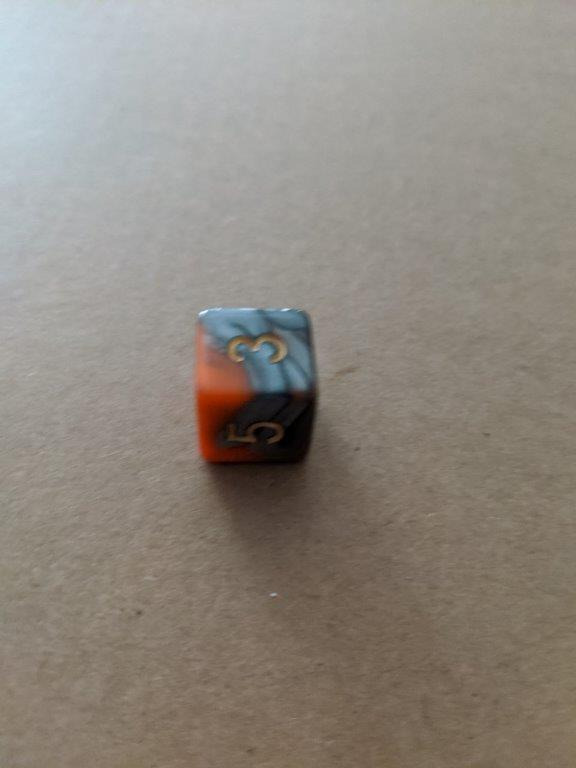d6-3: (192, 306, 318, 465)
